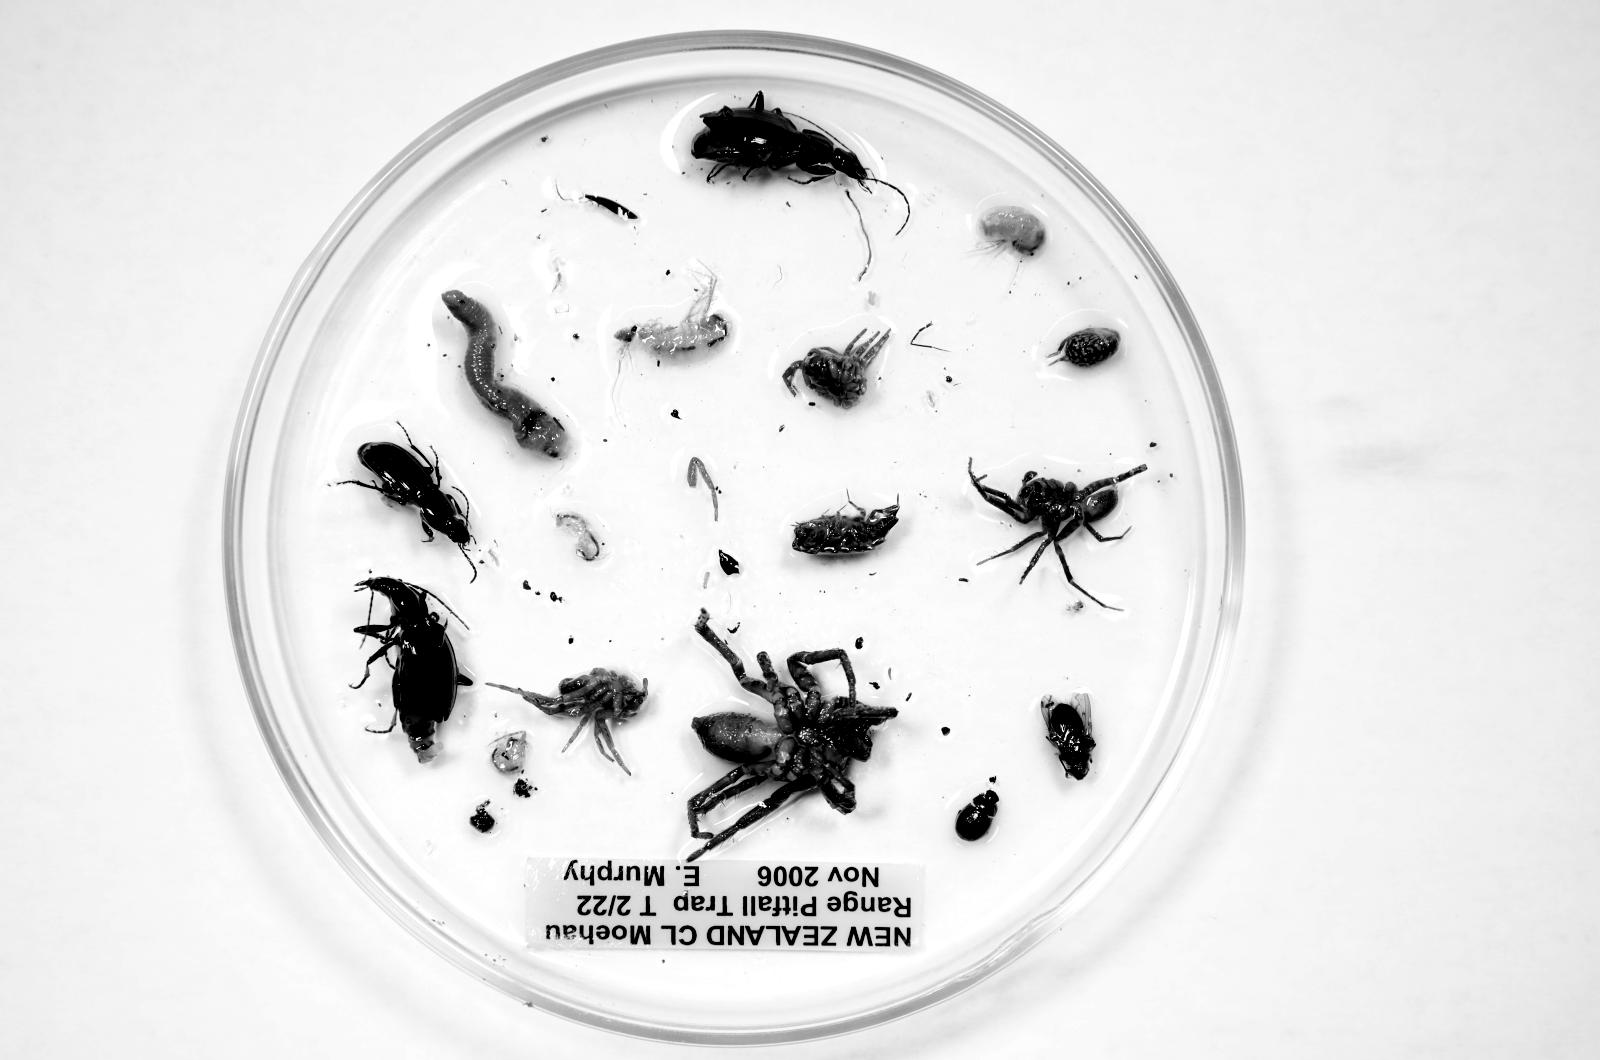amphipoda: (615, 265, 732, 361), (976, 206, 1045, 260), (555, 511, 604, 561)
annelida: (442, 290, 570, 459)
araneae: (686, 609, 898, 861), (969, 459, 1147, 593), (487, 667, 648, 775), (783, 329, 890, 409)
carabidae: (355, 577, 473, 762), (692, 91, 873, 183), (330, 442, 473, 555)
diptera: (1039, 691, 1095, 780), (954, 789, 999, 841)
isopoda: (792, 503, 899, 554), (1056, 328, 1120, 367)
